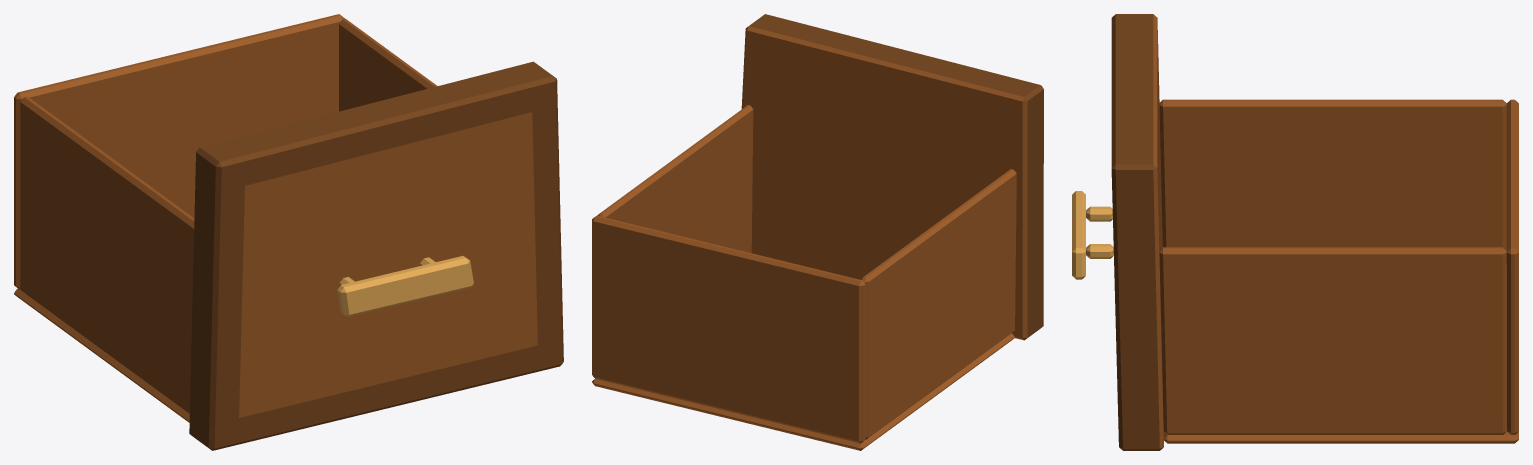
The model's file is Rack_5.fbx.
The picture shows the model from 3 angles, left to right: view 1: azimuth 30°, elevation 25°; view 2: azimuth 150°, elevation 25°; view 3: azimuth 270°, elevation 25°; orthographic projection. The views are drawn at different scales.
Visible parts, largest first — view 1: Rack_5; view 2: Rack_5; view 3: Rack_5.
Boxes of the visible parts, <box> form: Rack_5: <box>14,14,563,450</box>; Rack_5: <box>592,14,1043,450</box>; Rack_5: <box>1072,14,1518,450</box>.
Size of the model in its own units: 0.402 by 0.3201 by 0.4606.
